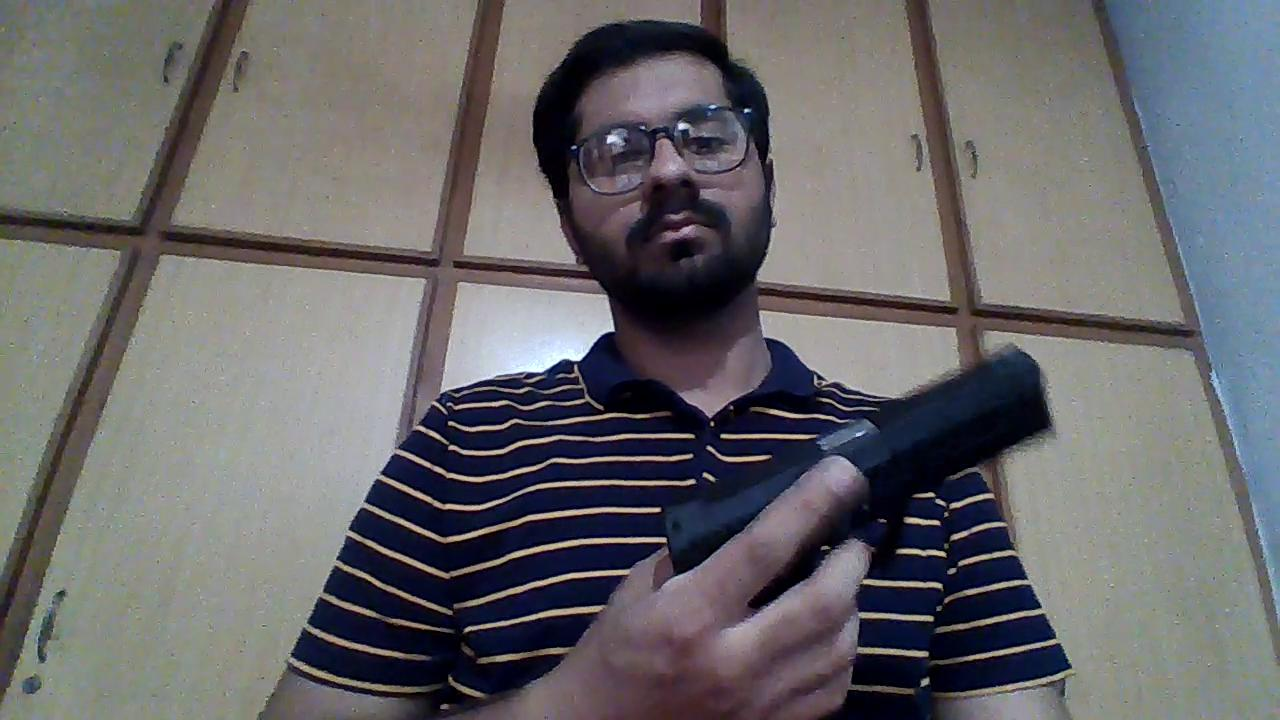criminal: (254, 14, 1076, 720)
weapon: (660, 340, 1056, 593)
